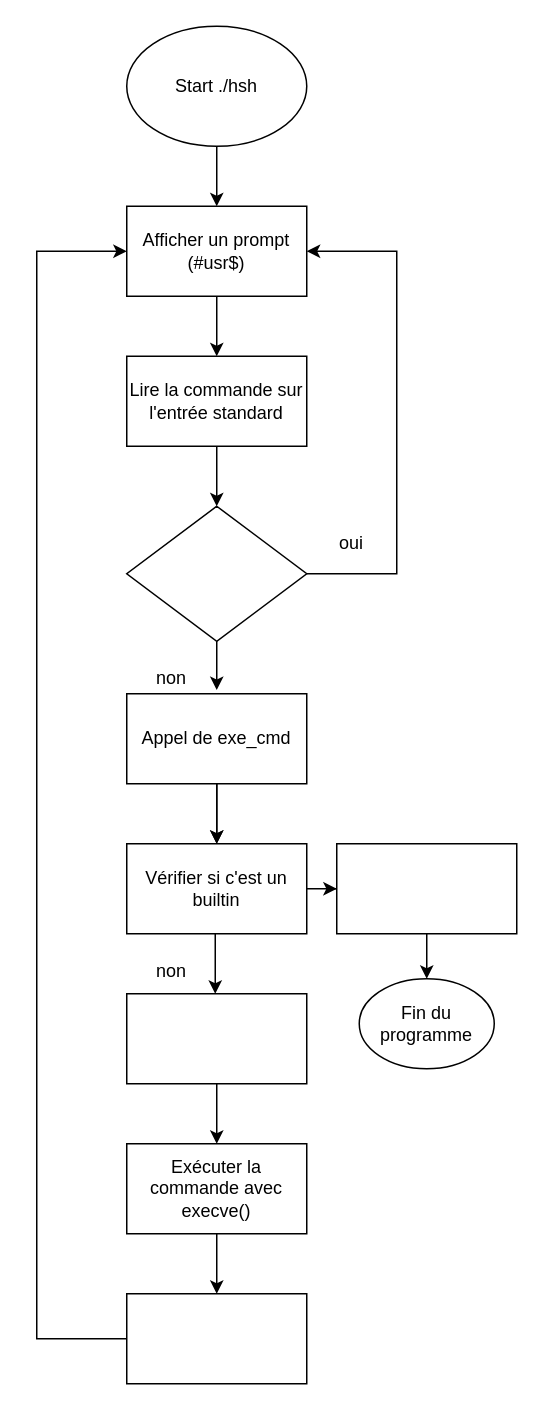
Some shapes in this 543 by 1410 pixel diagram are drawn without their labels. Here are the shapes that lost their labels. From the top down, the box of each, then its label:
(125, 505, 307, 641): L'entrée est vide ?
(335, 842, 517, 934): si builtin exit
(125, 992, 307, 1084): Créer un enfant avec fork()
(125, 1292, 307, 1384): Attendre la fin du processus de l'enfant avec waitpid()
